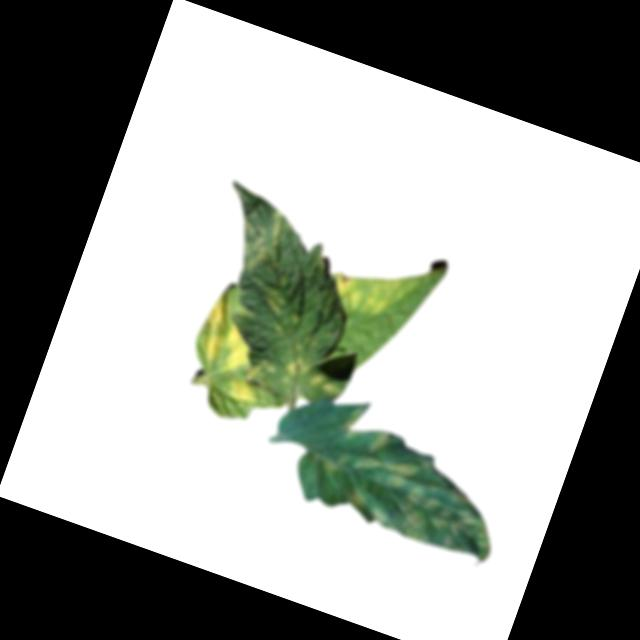Leaf_Mold: (305, 417, 516, 564), (178, 293, 285, 407), (322, 246, 423, 328), (229, 198, 295, 276), (281, 354, 346, 399)
